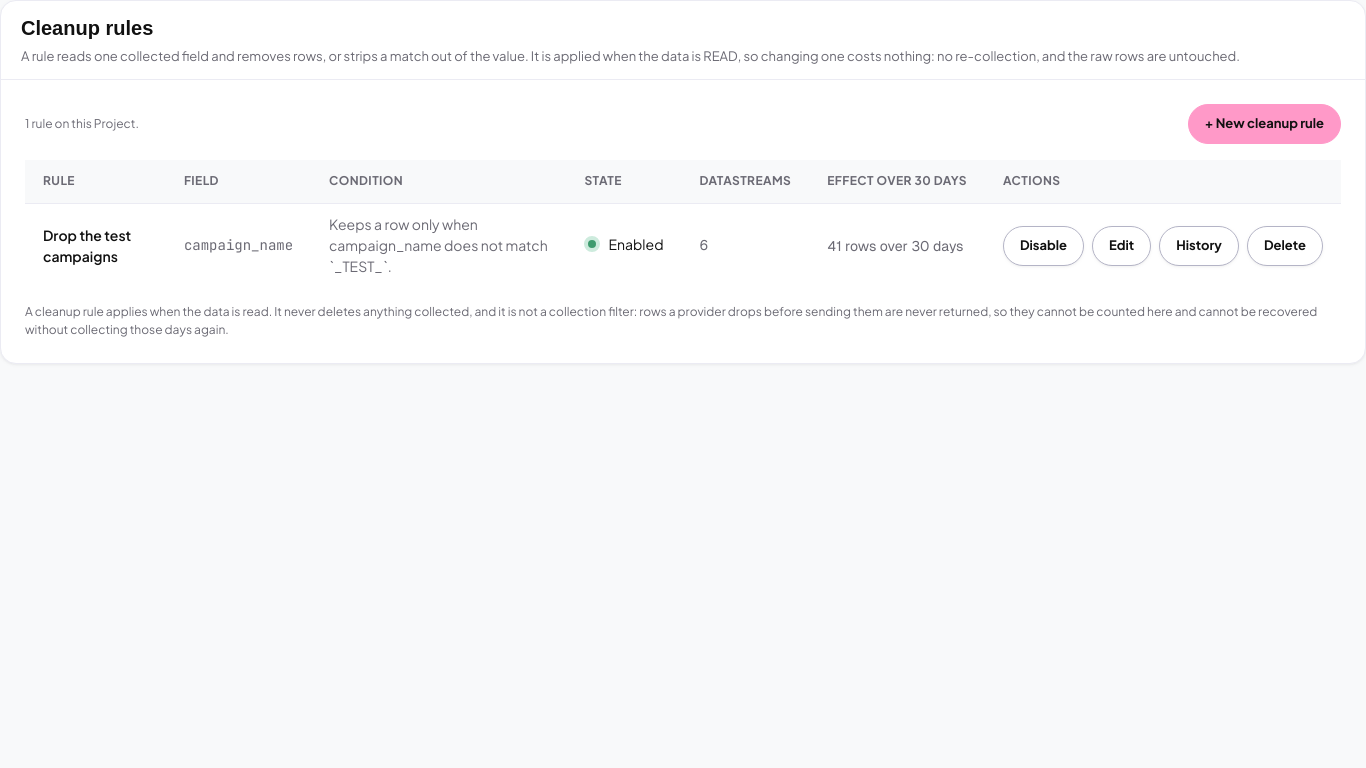
Test: the recorded history of a cleanup rule › lists every version and names the current one from the server's pointer
This screenshot has width=1366, height=768.
Click the button with test id "history-crule_1" at (1199, 246), box [1159,226,1239,266]
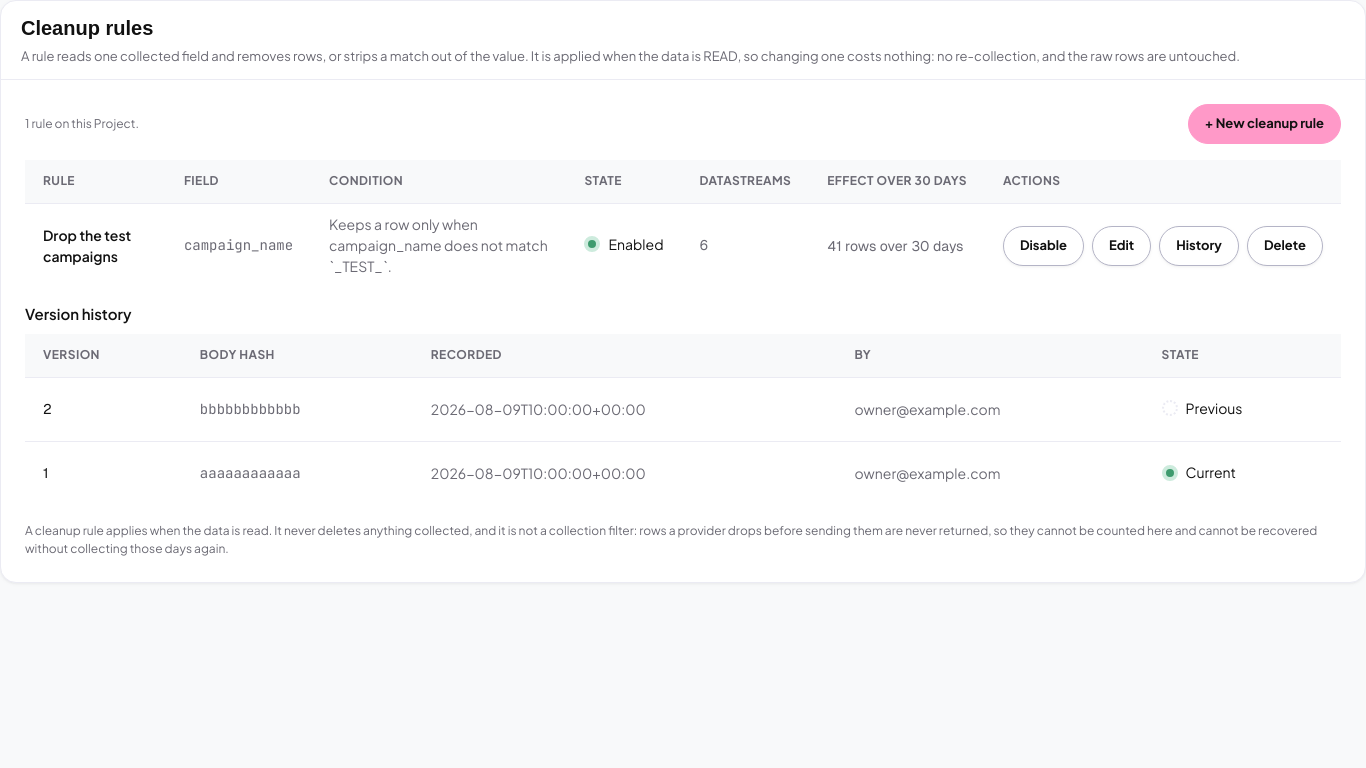
Now the text "Current" is shown, box [1186,462,1236,483]
Now the text "Previous" is shown, box [1186,398,1242,419]
Now the cell titled "aaaaaaaaaaaaaaaaaaaaaaaaaaaaaaaaaaaaaaaaaaaaaaaaaaaaaaaaaaaaaaaa" is shown, box [182,442,413,506]
